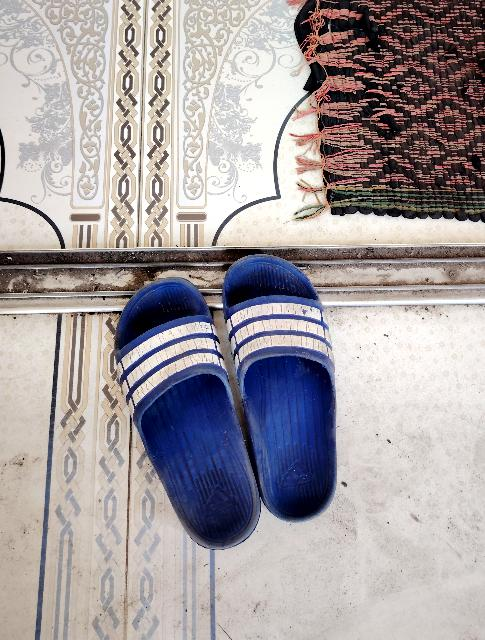sandal: (95, 220, 404, 555)
